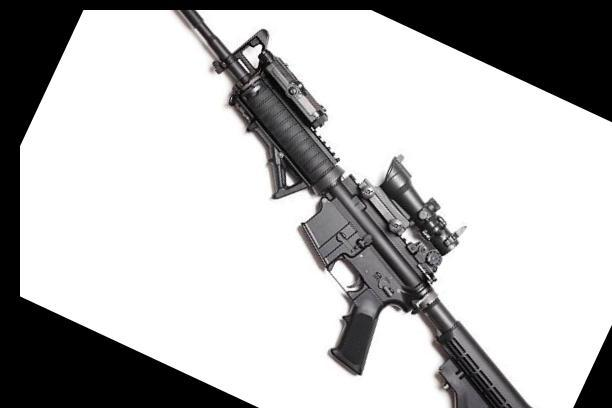larga: (179, 9, 533, 408)
